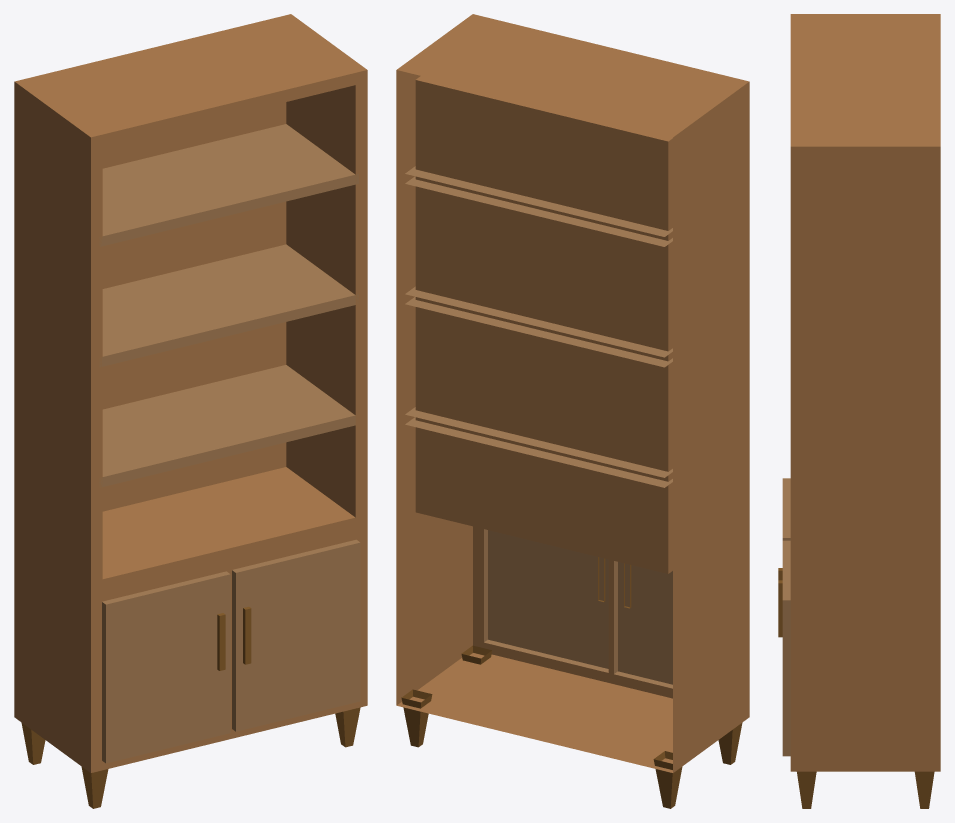
File: 6 cabinet.fbx
3 views of the same model, side by side, from view 1: azimuth 30°, elevation 25°; view 2: azimuth 150°, elevation 25°; view 3: azimuth 270°, elevation 25° (orthographic).
Parts seen in each view (by area): view 1: 5 cabinet; view 2: 5 cabinet; view 3: 5 cabinet.
Boxes of the visible parts, <box> form: 5 cabinet: <box>14,14,367,808</box>; 5 cabinet: <box>396,14,749,808</box>; 5 cabinet: <box>778,14,940,808</box>.
Size of the model in its own units: 47.75 by 112 by 24.72.
